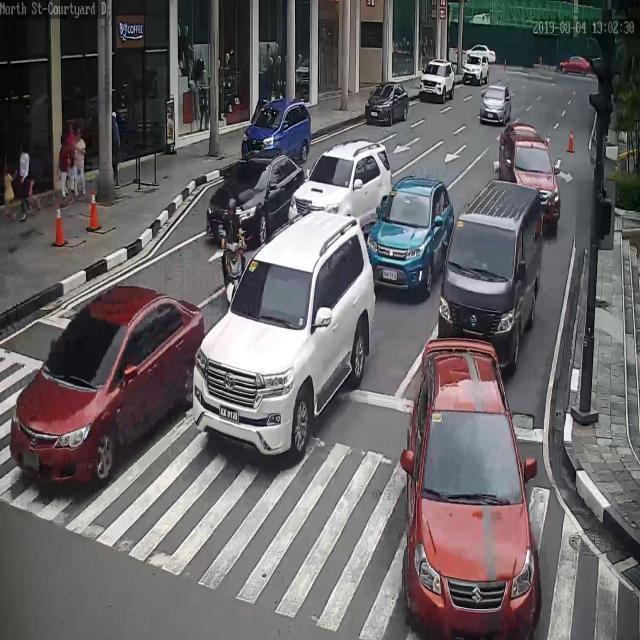car: (190, 210, 374, 462), (402, 333, 542, 640), (9, 282, 206, 491), (367, 176, 454, 297), (206, 154, 306, 246), (289, 137, 393, 225), (496, 133, 560, 233), (241, 99, 310, 167), (364, 81, 409, 127), (420, 61, 455, 104), (480, 86, 510, 125), (461, 54, 488, 86), (559, 54, 594, 75)
jeepney: (220, 198, 246, 304)
van: (438, 178, 542, 372)
